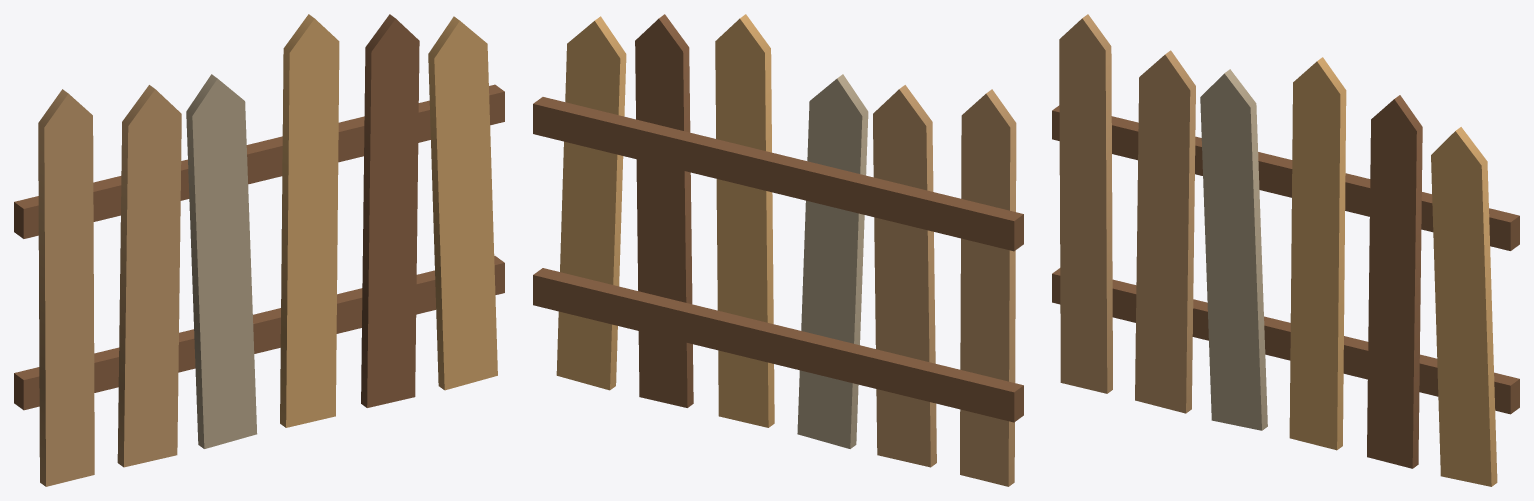
File: fence-picket-run.lod1.glb
3 renders of one model, left to right at view 1: azimuth 30°, elevation 25°; view 2: azimuth 150°, elevation 25°; view 3: azimuth 330°, elevation 25°, orthographic. The views are drawn at different scales.
Visible parts, largest first — view 1: fence-picket-run_lod1; view 2: fence-picket-run_lod1; view 3: fence-picket-run_lod1.
Boxes of the visible parts, x1,y1,x2,y2 form: fence-picket-run_lod1: [14, 14, 504, 486]; fence-picket-run_lod1: [533, 14, 1023, 486]; fence-picket-run_lod1: [1052, 14, 1519, 486].
Bounding box in the file's own units: 1 × 0.8022 × 0.0585.
